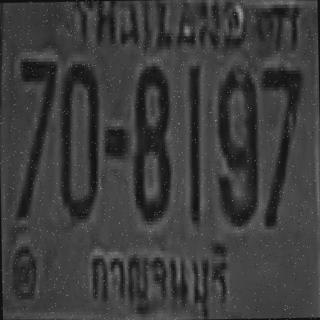N00: (57, 62, 99, 218)
N01: (187, 64, 200, 222)
N07: (260, 64, 304, 226), (15, 56, 57, 215)
N08: (130, 65, 170, 221)
N09: (215, 66, 258, 226)
P17: (85, 234, 232, 320)
